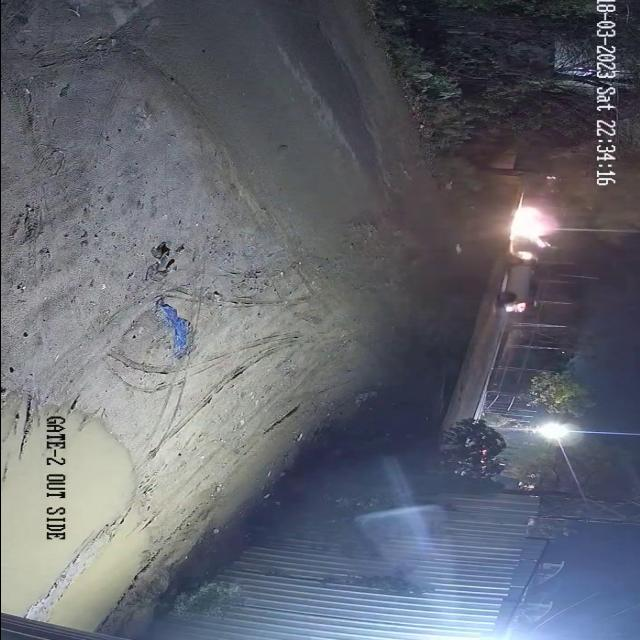accident: (491, 205, 561, 315)
